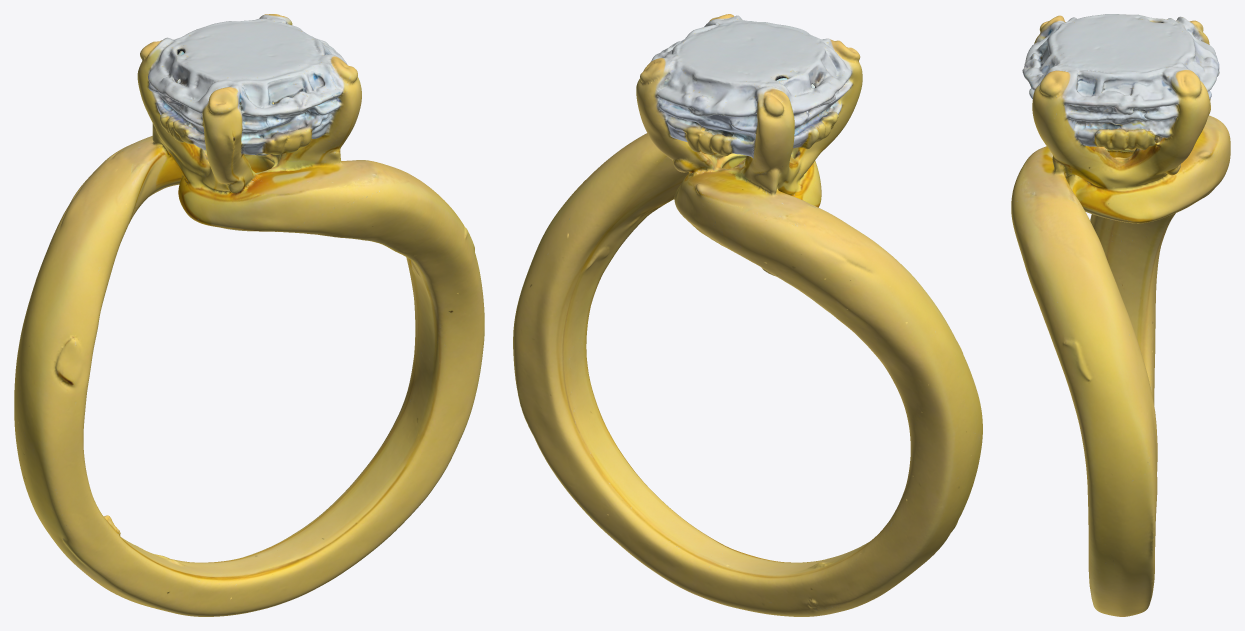
Rendered from ring3.glb.
3 renders of one model, left to right at view 1: azimuth 30°, elevation 25°; view 2: azimuth 150°, elevation 25°; view 3: azimuth 270°, elevation 25°, orthographic.
Parts seen in each view (by area): view 1: Mesh_0; view 2: Mesh_0; view 3: Mesh_0.
Boxes of the visible parts, x1,y1,x2,y2 form: Mesh_0: (14,14,484,616); Mesh_0: (513,14,982,616); Mesh_0: (1011,14,1230,616).
Size of the model in its own units: 1.7 by 2 by 0.7246.
1 material, 1 textured.
